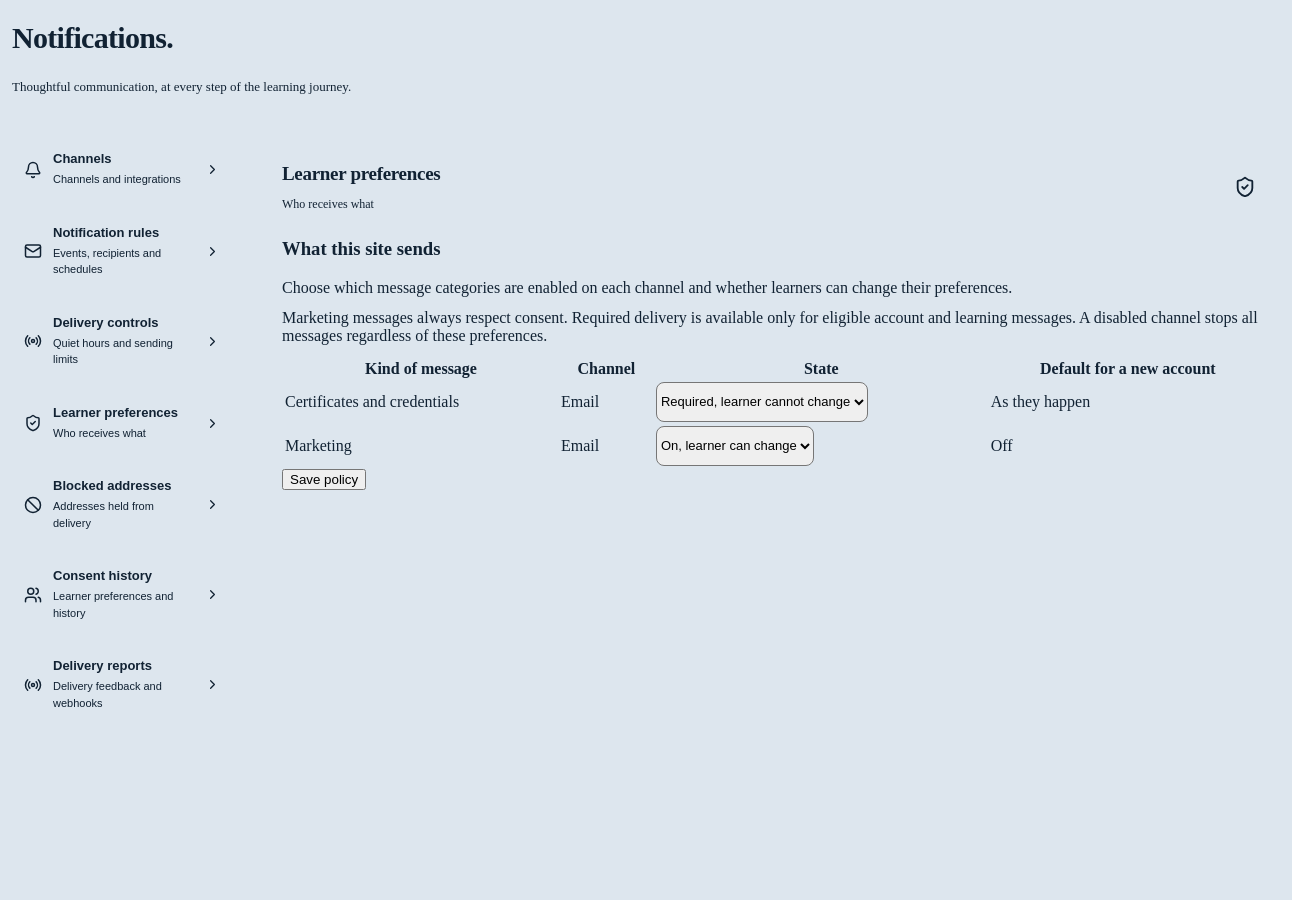
Test case: suppressions › shows a digest and never an address
Click the tab "Blocked addresses" at (122, 505), box x1=12 y1=463 x2=232 y2=546
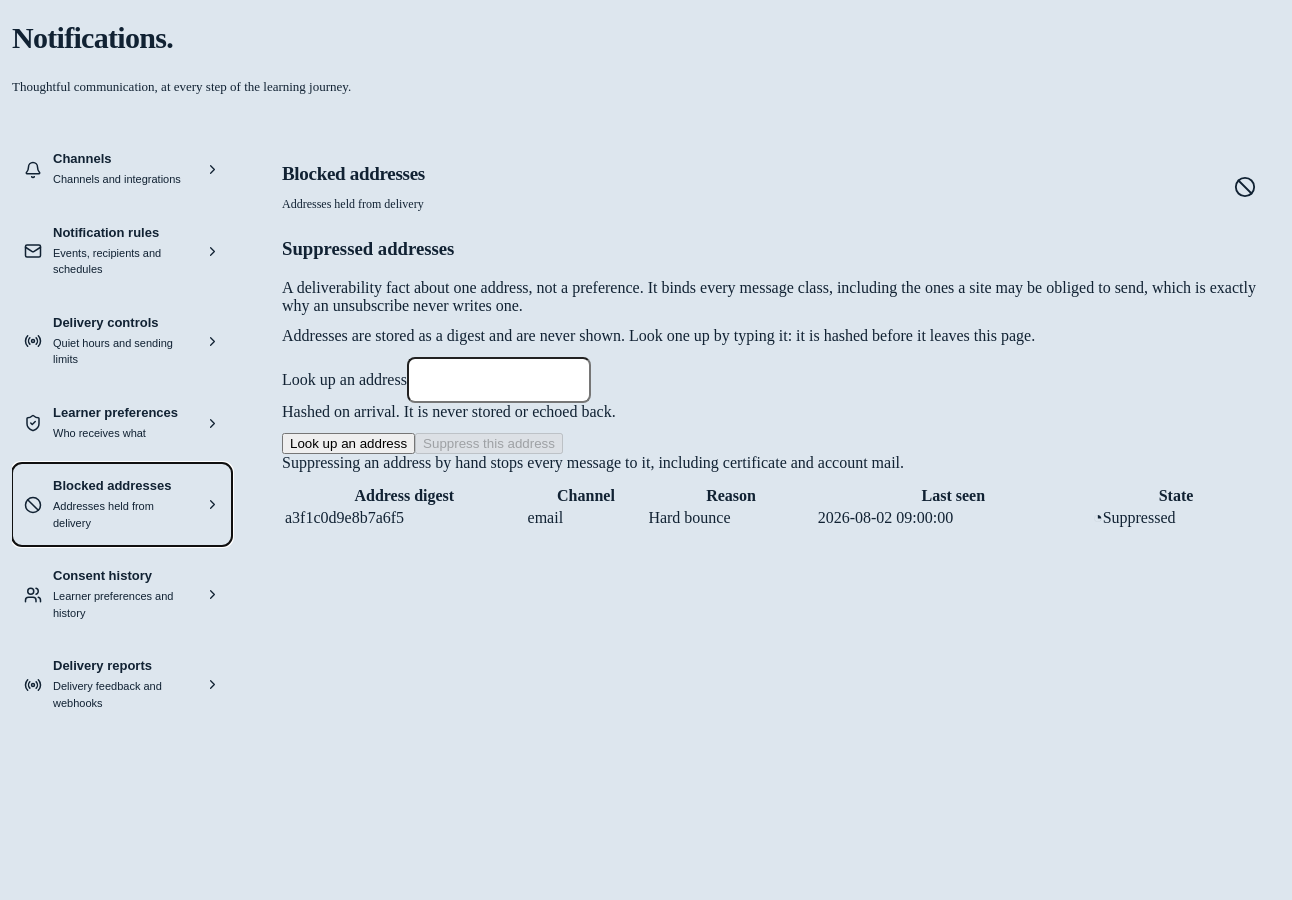
Result: the text "a3f1c0d9e8b7a6f5" is shown at x1=284 y1=508 x2=525 y2=528
Result: the text "never shown" is shown at x1=282 y1=327 x2=1035 y2=344
